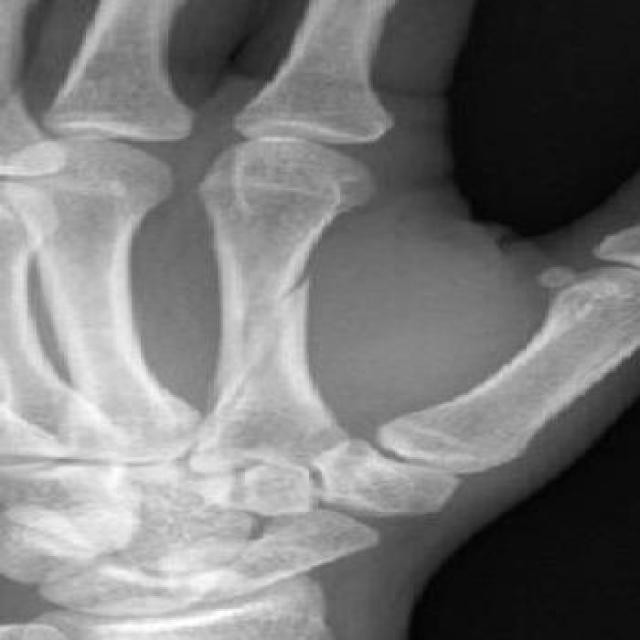fracture: (212, 262, 342, 403)
